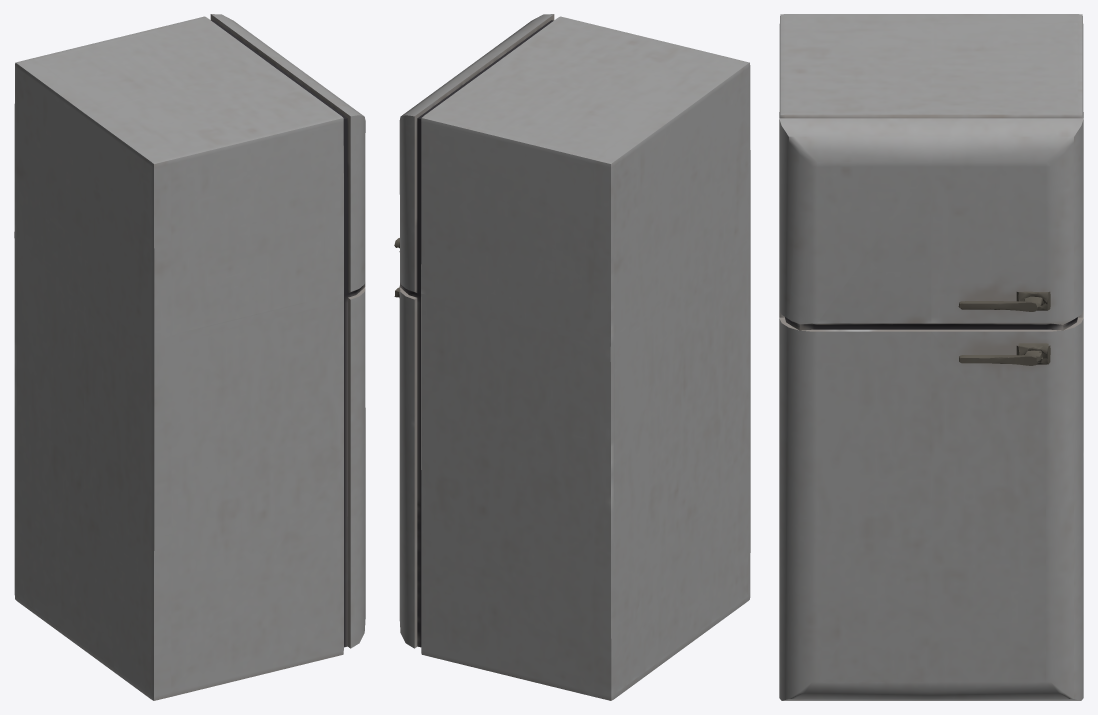
Rendered from fridge_old.glb.
3 views of the same model, side by side, from view 1: azimuth 30°, elevation 25°; view 2: azimuth 150°, elevation 25°; view 3: azimuth 270°, elevation 25° (orthographic). The views are drawn at different scales.
Parts seen in each view (by area): view 1: mesh; view 2: mesh; view 3: mesh.
Part boxes in pixels (x1=…): mesh: x1=14, y1=14, x2=365, y2=700; mesh: x1=394, y1=14, x2=750, y2=700; mesh: x1=779, y1=14, x2=1083, y2=700.
Size of the model in its own units: 0.6953 by 1.5 by 0.7074.
1 material, 1 textured.
